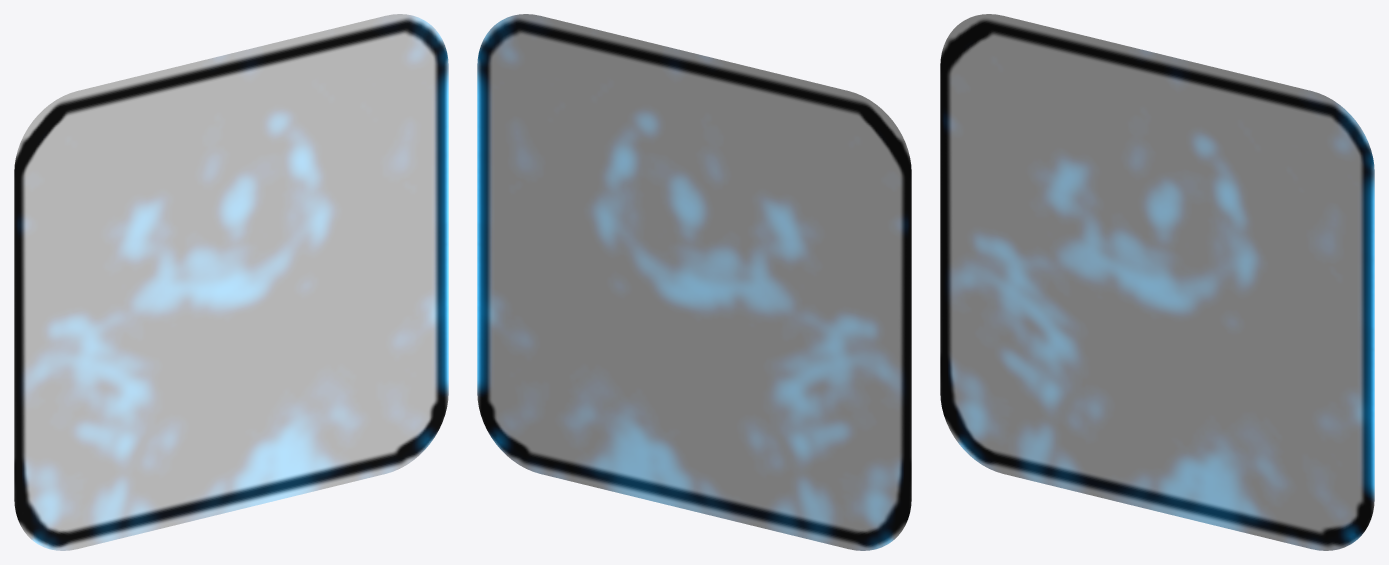
Rendered from window_screen.fbx.
3 views of the same model, side by side, from view 1: azimuth 30°, elevation 25°; view 2: azimuth 150°, elevation 25°; view 3: azimuth 330°, elevation 25° (orthographic).
Parts seen in each view (by area): view 1: Window.001; view 2: Window.001; view 3: Window.001.
Boxes of the visible parts, x1,y1,x2,y2 form: Window.001: (14, 14, 448, 550); Window.001: (477, 14, 911, 550); Window.001: (940, 14, 1374, 550).
Size of the model in its own units: 271 by 274 by 1.2e-05.
